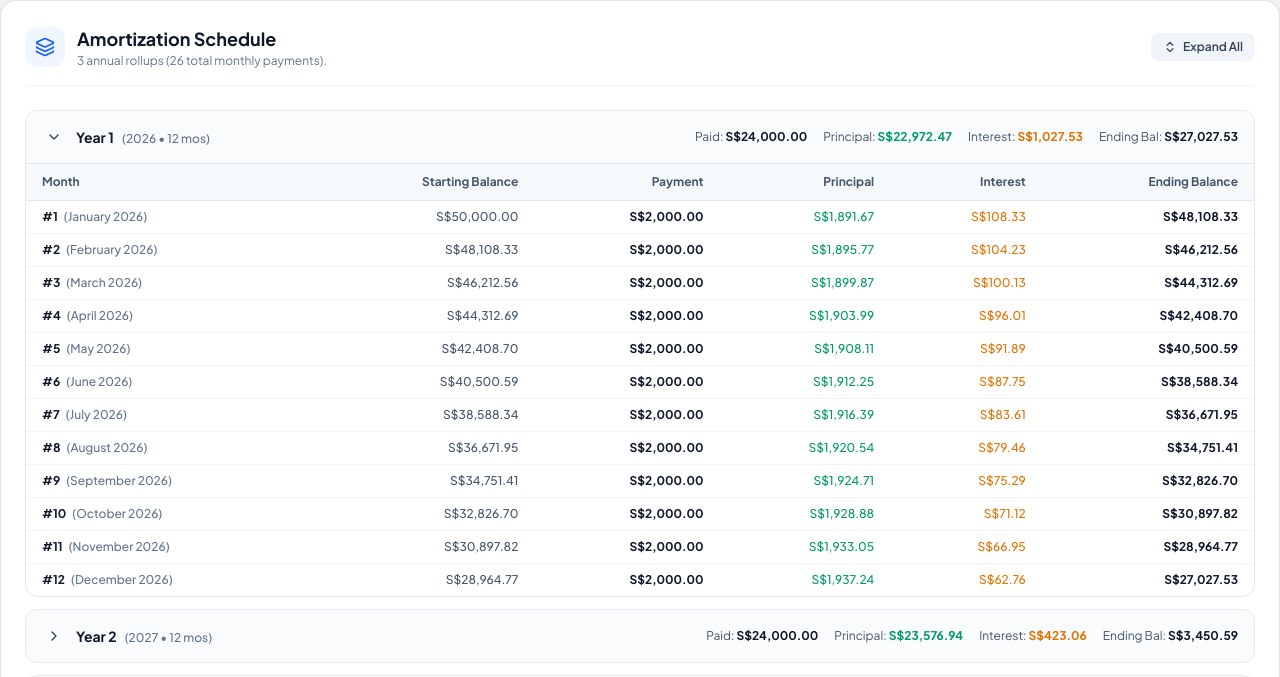
Test: Task 9: Loans & Debt Freedom Engine › AmortizationTable › expands accordion to reveal month-by-month details with starting balance, payment, principal, interest, ending balance
expect the column heading "Starting Balance" is shown: met, box [310,164,534,200]
expect the column heading "Principal" is shown: met, box [720,164,890,200]
Note: Collapse Year 1
Click the button "Year 1".
click(92, 137)  # box [26,111,1254,163]
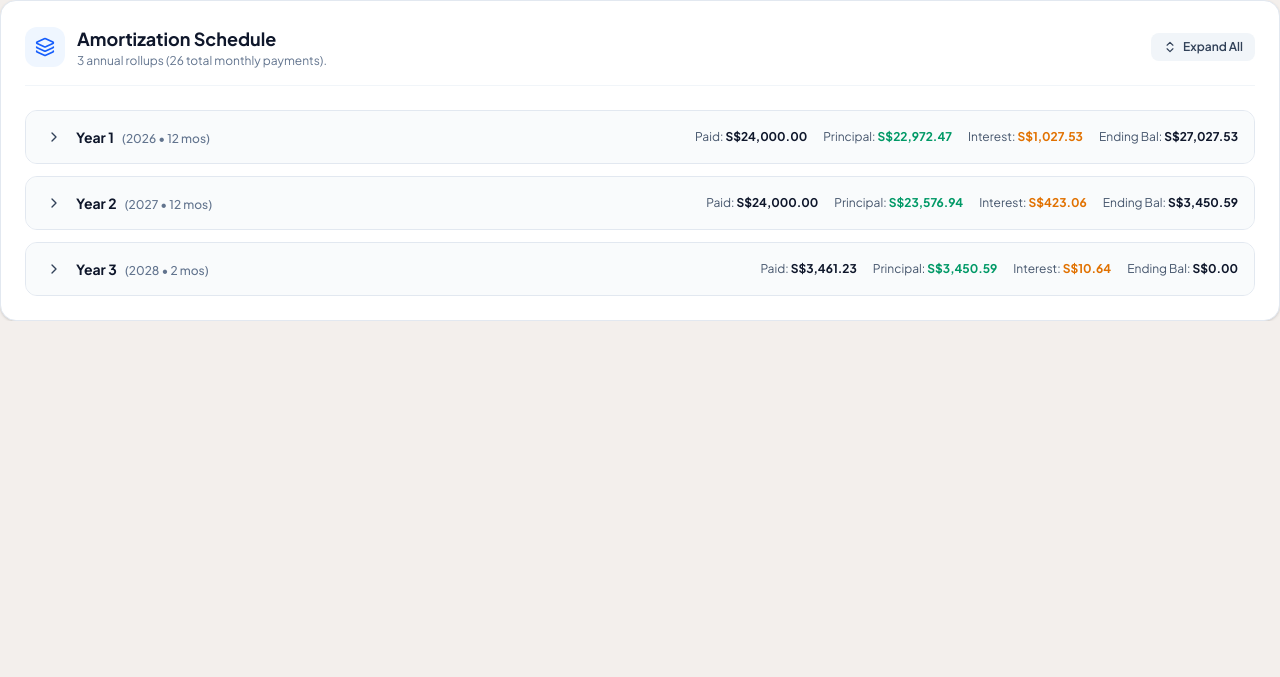
Note: Expand Year 1 again
Click the button "Year 1".
click(92, 137)  # box [26,111,1254,163]
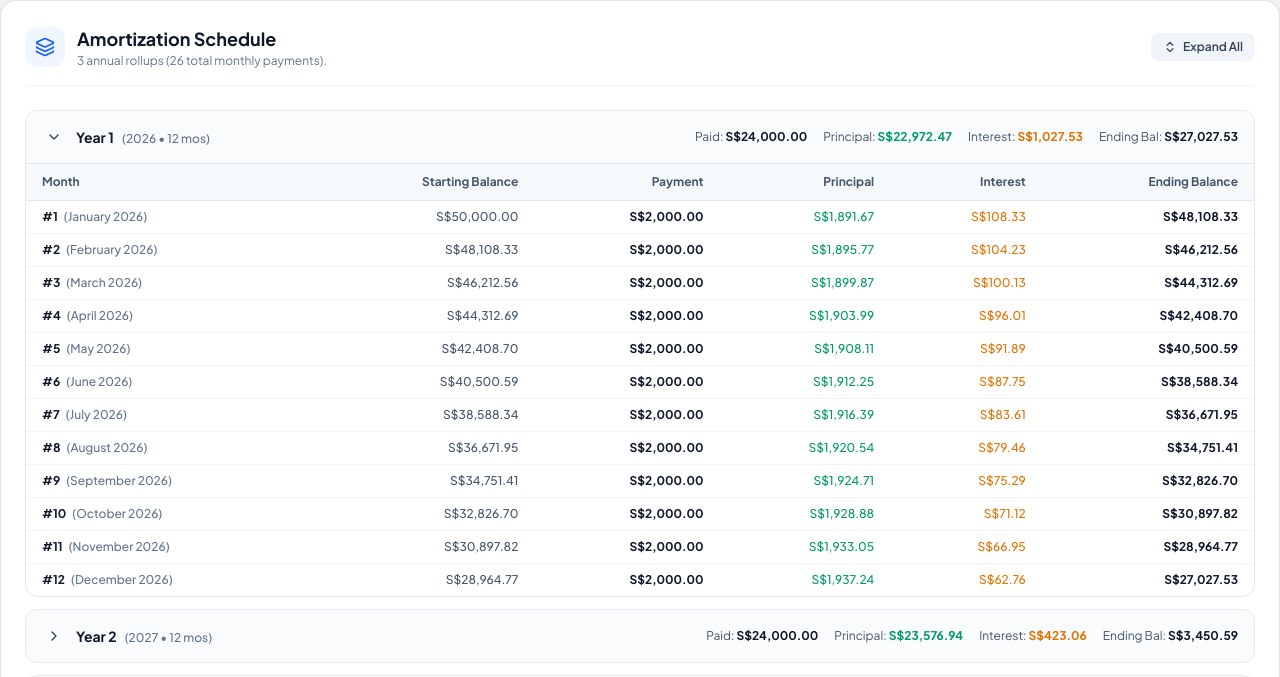
expect the column heading "Starting Balance" is shown: met, box [310,164,534,200]
